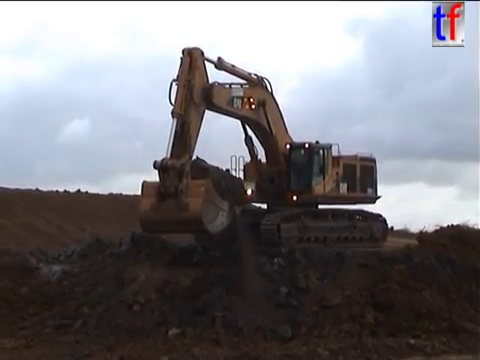excavator: (135, 44, 392, 251)
